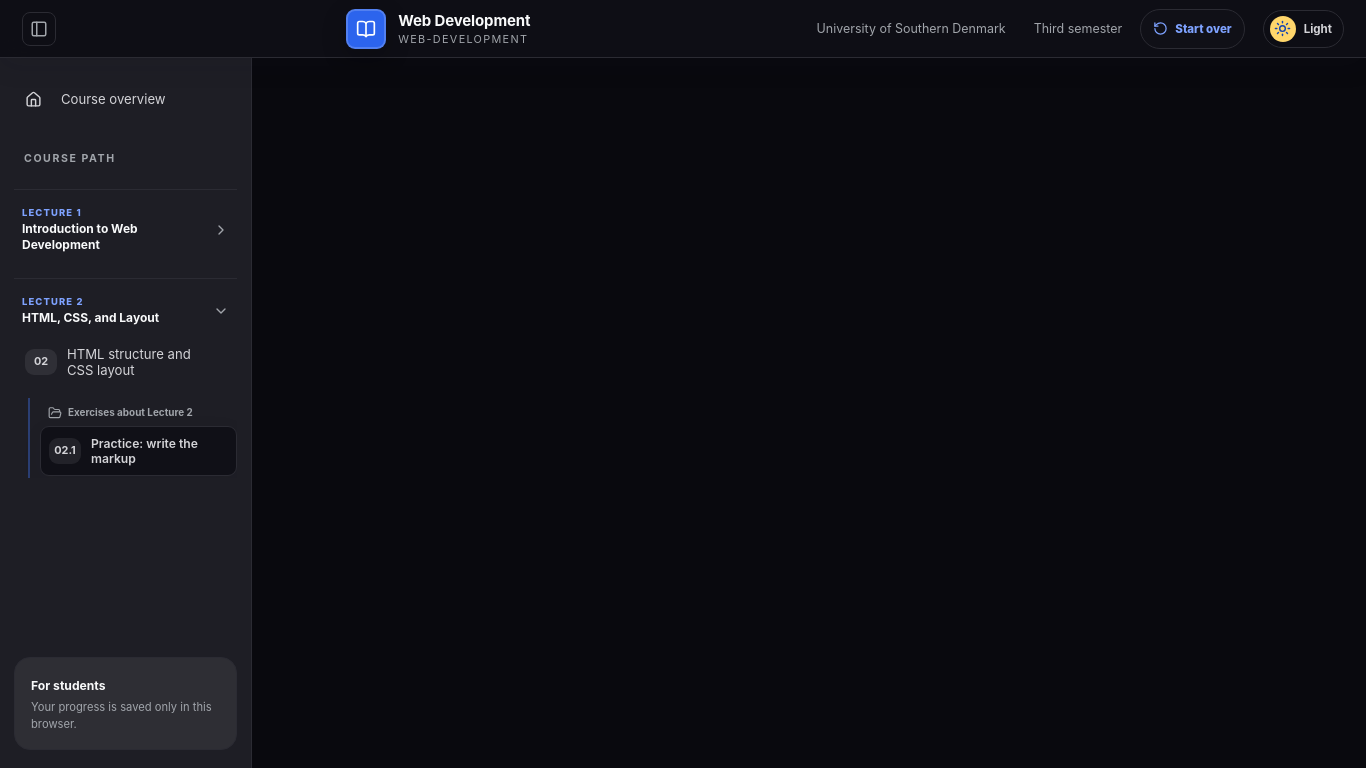
Test: AppShell lecture navigation › opens the active lecture and lets learners collapse and expand groups
Expected: the link "01.1 Practice: reason about HTTP" is not shown
Expected: the link "02.1 Practice: write the markup" is shown, [40, 426, 237, 476]
Step 1. Click the button "Lecture 1 Introduction to Web Development" → (126, 230), box [14, 202, 237, 257]
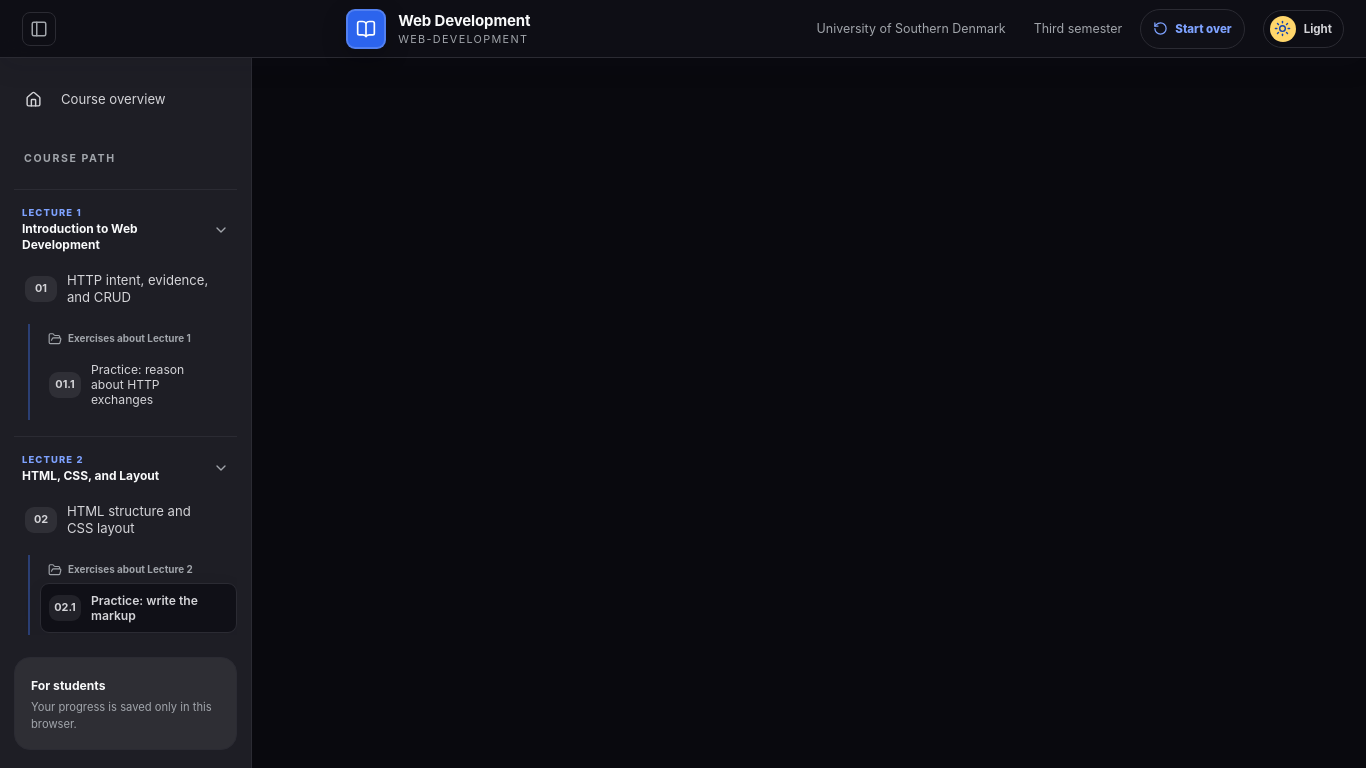
Expected: the button "Lecture 1 Introduction to Web Development" is expanded
Expected: the link "01.1 Practice: reason about HTTP exchanges" is shown, [49, 362, 184, 407]
Step 2. Click the button "Lecture 1 Introduction to Web Development" → (126, 230), box [14, 202, 237, 257]
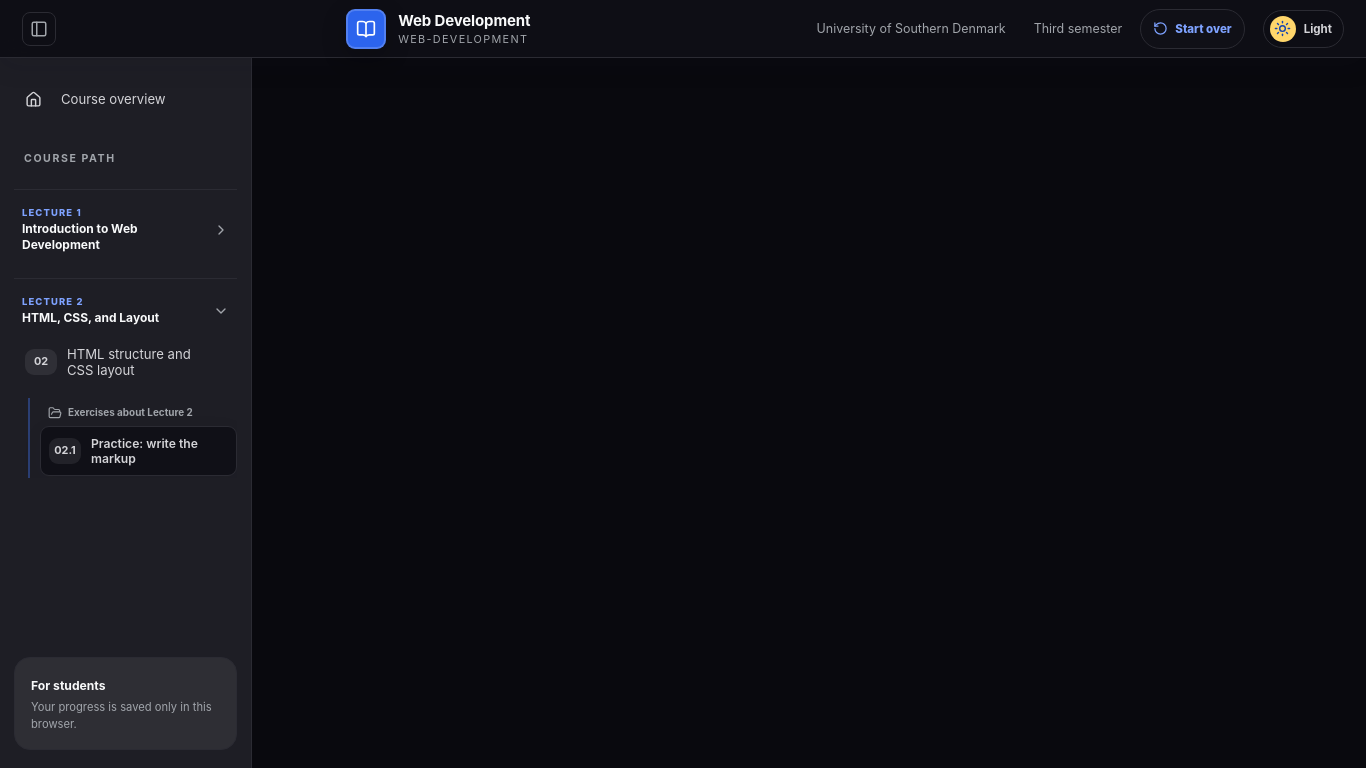
Expected: the button "Lecture 1 Introduction to Web Development" is collapsed, [14, 202, 237, 257]
Expected: the link "01.1 Practice: reason about HTTP" is gone
